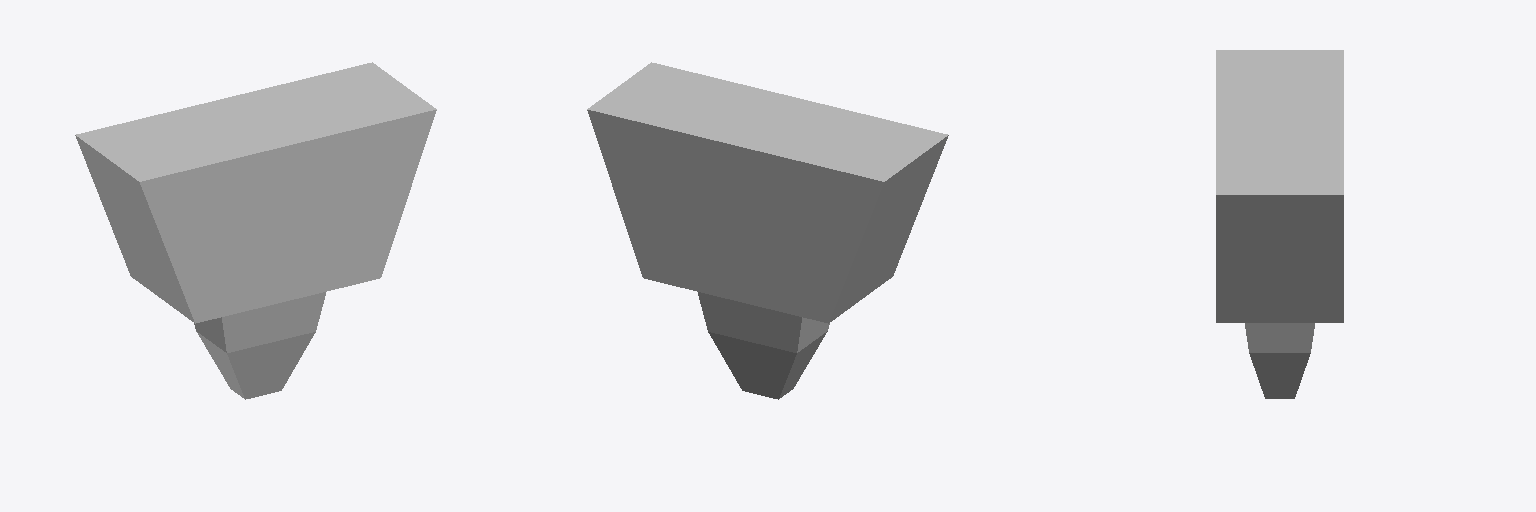
Rendered from Hook.obj.
The picture shows the model from 3 angles: view 1: azimuth 30°, elevation 25°; view 2: azimuth 150°, elevation 25°; view 3: azimuth 270°, elevation 25°; orthographic projection.
Visible parts, largest first — view 1: Hook; view 2: Hook; view 3: Hook.
Boxes of the visible parts, x1,y1,x2,y2 form: Hook: [75, 62, 436, 399]; Hook: [587, 62, 948, 399]; Hook: [1216, 50, 1343, 398].
Size of the model in its own units: 1.28 by 1.1 by 0.48.